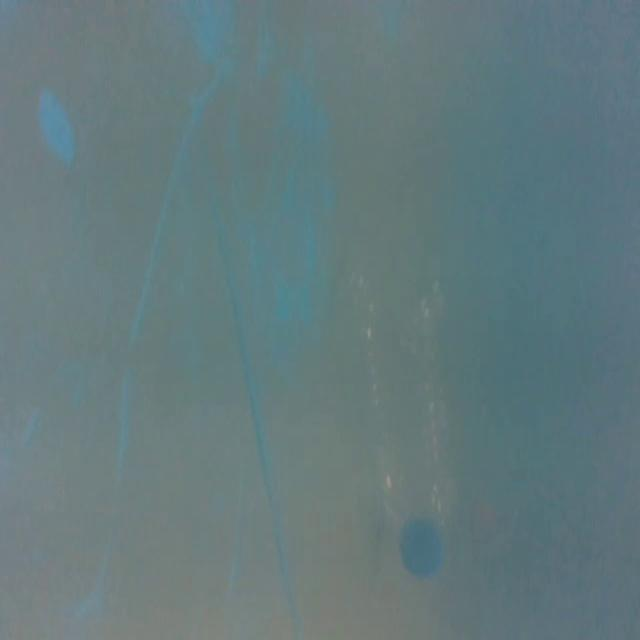plastic bottle: (343, 254, 474, 585)
